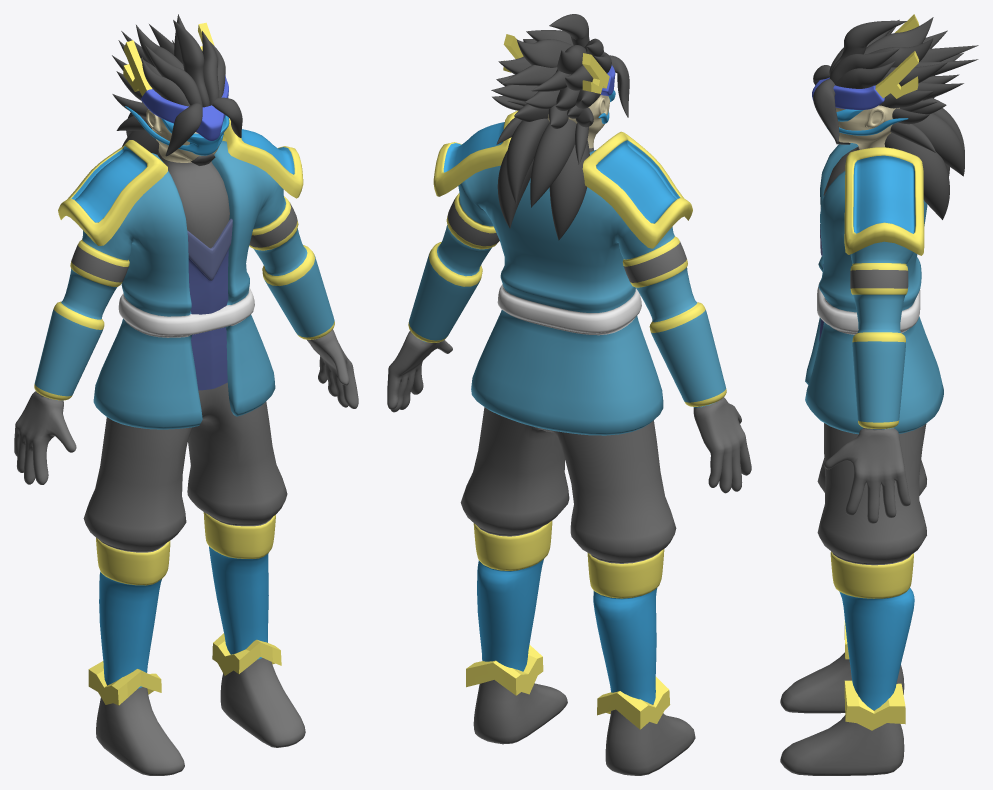
The model's file is asset.glb.
The picture shows the model from 3 angles, left to right: view 1: azimuth 30°, elevation 25°; view 2: azimuth 150°, elevation 25°; view 3: azimuth 270°, elevation 25°; orthographic projection. The views are drawn at different scales.
Parts seen in each view (by area): view 1: Body, Body.001, Plane, NurbsPath, Body.002, Cube, Cube.006, Cube.004, Cube.001, NurbsPath.001, Cube.003, Cube.002; view 2: Body, Body.001, Plane, NurbsPath.003, NurbsPath, Cube.006, Cube.003, NurbsPath.001, Cube, Cube.004; view 3: Body, Body.001, Plane, NurbsPath, NurbsPath.003, Cube.006, Cube, Cube.003, Cube.004, NurbsPath.001, Cube.001, Cube.002.
Part boxes in pixels (bbox=[...]): Body: bbox=[14, 140, 358, 484]; Body.001: bbox=[83, 382, 305, 775]; Plane: bbox=[58, 119, 303, 245]; NurbsPath: bbox=[112, 14, 225, 130]; Body.002: bbox=[187, 218, 232, 390]; Cube: bbox=[146, 109, 229, 248]; Cube.006: bbox=[88, 633, 281, 705]; Cube.004: bbox=[165, 97, 242, 156]; Cube.001: bbox=[141, 75, 228, 140]; NurbsPath.001: bbox=[173, 20, 209, 107]; Cube.003: bbox=[123, 22, 214, 96]; Cube.002: bbox=[125, 106, 229, 155]; Body: bbox=[387, 150, 751, 493]; Body.001: bbox=[460, 407, 695, 775]; Plane: bbox=[433, 110, 692, 248]; NurbsPath.003: bbox=[497, 104, 589, 240]; NurbsPath: bbox=[491, 30, 611, 164]; Cube.006: bbox=[466, 644, 670, 729]; Cube.003: bbox=[503, 34, 609, 93]; NurbsPath.001: bbox=[549, 14, 589, 47]; Cube: bbox=[547, 95, 609, 151]; Cube.004: bbox=[609, 55, 629, 117]; Body: bbox=[805, 143, 943, 523]; Body.001: bbox=[780, 423, 926, 775]; Plane: bbox=[844, 147, 924, 255]; NurbsPath: bbox=[829, 17, 978, 152]; NurbsPath.003: bbox=[884, 97, 964, 219]; Cube.006: bbox=[844, 621, 905, 730]; Cube: bbox=[823, 105, 899, 196]; Cube.003: bbox=[875, 14, 919, 98]; Cube.004: bbox=[813, 65, 839, 142]; NurbsPath.001: bbox=[830, 20, 906, 75]; Cube.001: bbox=[812, 77, 884, 109]; Cube.002: bbox=[827, 109, 908, 135].
Size of the model in its own units: 0.6735 by 1.39 by 0.3481.
